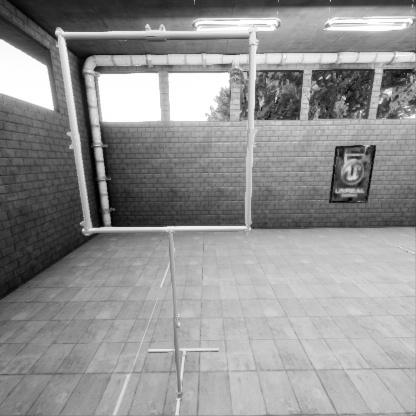gate: (53, 187, 275, 401)
